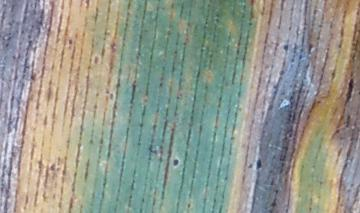tarspot: (347, 77, 353, 102), (256, 156, 263, 169), (28, 73, 37, 81), (172, 156, 179, 166), (282, 43, 289, 52), (67, 38, 74, 45), (249, 162, 253, 168)
